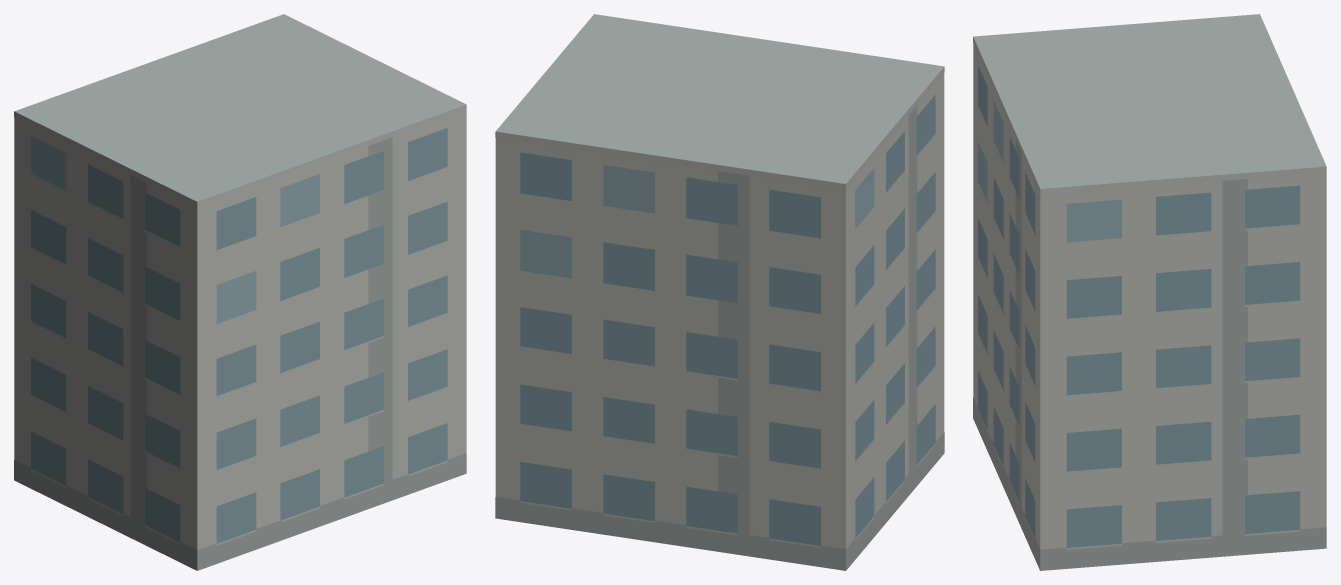
The model's file is residential-6594d39a-5e94-446c-8213-214d943e00ff.glb.
3 renders of one model, left to right at view 1: azimuth 30°, elevation 25°; view 2: azimuth 150°, elevation 25°; view 3: azimuth 270°, elevation 25°, orthographic. The views are drawn at different scales.
Visible parts, largest first — view 1: residential-6594d39a-5e94-446c-8213-214d943e00ff.tmp; view 2: residential-6594d39a-5e94-446c-8213-214d943e00ff.tmp; view 3: residential-6594d39a-5e94-446c-8213-214d943e00ff.tmp.
Part boxes in pixels (left/top/right/bottom): residential-6594d39a-5e94-446c-8213-214d943e00ff.tmp: left=14, top=14, right=466, bottom=570; residential-6594d39a-5e94-446c-8213-214d943e00ff.tmp: left=495, top=14, right=944, bottom=570; residential-6594d39a-5e94-446c-8213-214d943e00ff.tmp: left=973, top=14, right=1326, bottom=570.
Size of the model in its own units: 14.99 by 15.25 by 12.8.
